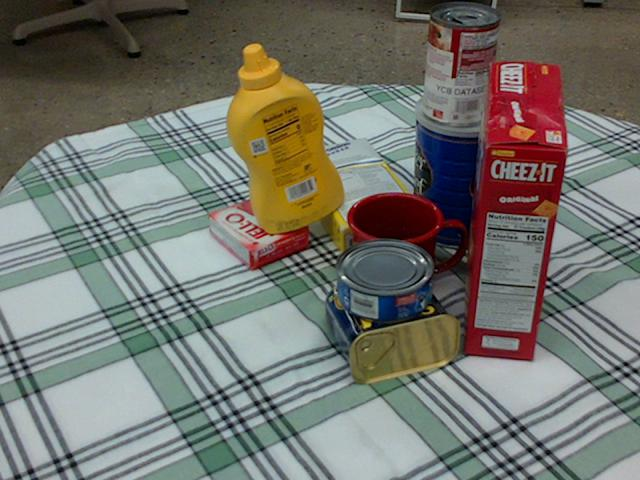cracker_box: (460, 62, 569, 360)
gelatin_box: (208, 195, 309, 271)
master_chef_can: (409, 87, 517, 248)
mug: (347, 193, 466, 308)
mustard_bottle: (225, 44, 343, 233)
potted_meat_can: (329, 264, 464, 380)
sugar_box: (291, 135, 422, 257)
tomato_soup_can: (422, 3, 499, 126)
tuna_fish_can: (336, 239, 434, 322)
